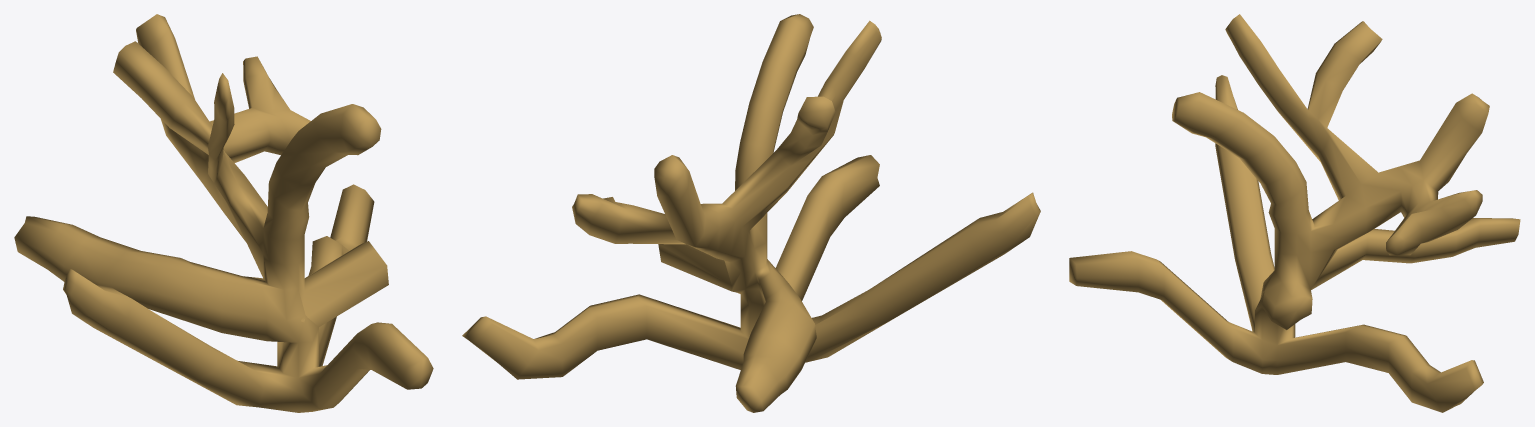
File: SM_mediumBranchCoral.fbx
3 renders of one model, left to right at view 1: azimuth 30°, elevation 25°; view 2: azimuth 150°, elevation 25°; view 3: azimuth 270°, elevation 25°, orthographic. The views are drawn at different scales.
Parts seen in each view (by area): view 1: Cube.003; view 2: Cube.003; view 3: Cube.003.
Part boxes in pixels (bbox=[...]): Cube.003: bbox=[14, 14, 433, 412]; Cube.003: bbox=[462, 14, 1040, 412]; Cube.003: bbox=[1069, 14, 1520, 412].
Bounding box in the file's own units: 42.79 × 32.98 × 42.87.
